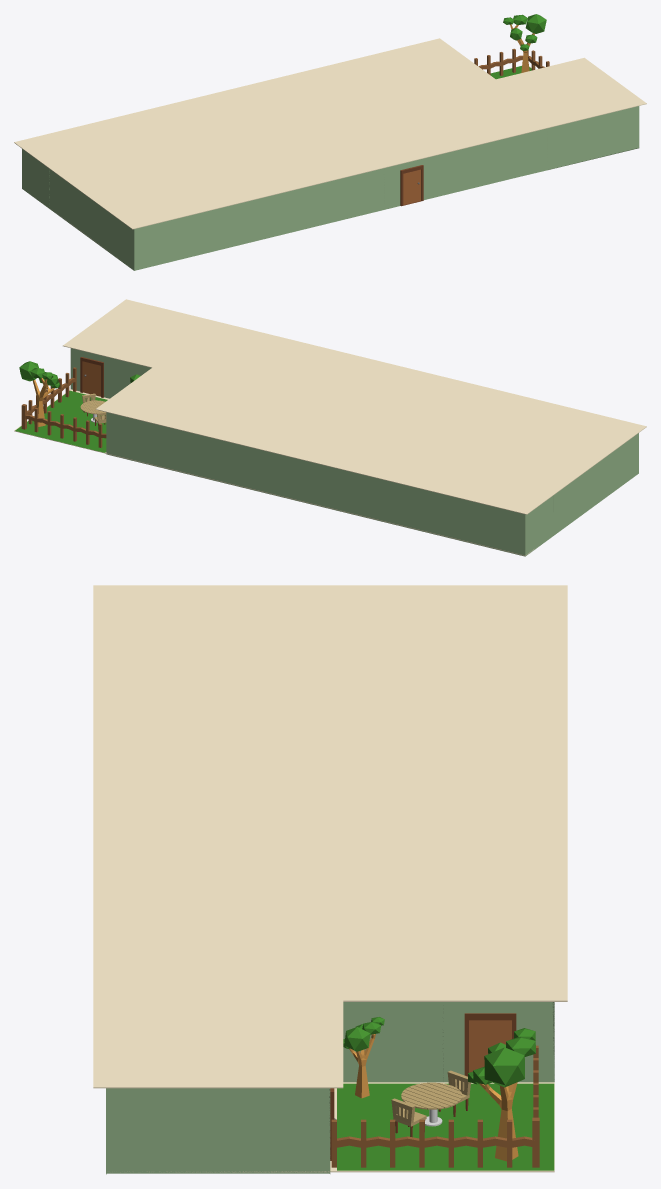
The model's file is MainCharHouse.fbx.
The picture shows the model from 3 angles, top to bottom: view 1: azimuth 30°, elevation 25°; view 2: azimuth 150°, elevation 25°; view 3: azimuth 270°, elevation 25°; orthographic projection. The views are drawn at different scales.
Visible parts, largest first — view 1: Plane.022, Plane.006, Icosphere.017, Cube.172, Cube.131; view 2: Plane.022, Plane.006, Plane.020, Icosphere.017, Cube.131, Plane.011, Cube.133, Cube.323; view 3: Plane.022, Plane.006, Plane.020, Cube.133, Icosphere.017, Cube.324, Icosphere.064, Cube.145, Plane.011, Cylinder.052.
Part boxes in pixels (x1,y1,x2,y2): Plane.022: (14,38,646,229); Plane.006: (22,106,639,270); Icosphere.017: (503,14,546,72); Cube.172: (403,169,421,204); Cube.131: (474,48,522,75); Plane.022: (63,299,646,514); Plane.006: (70,348,638,556); Plane.020: (15,390,107,452); Icosphere.017: (19,361,60,426); Cube.131: (25,408,106,447); Plane.011: (14,389,533,555); Cube.133: (27,367,76,424); Cube.323: (83,361,100,396); Plane.022: (93,585,567,1088); Plane.006: (106,1002,554,1174); Plane.020: (337,1083,554,1170); Cube.133: (331,1119,536,1167); Icosphere.017: (468,1028,535,1161); Cube.324: (469,1020,511,1072); Icosphere.064: (343,1017,384,1098); Cube.145: (401,1082,462,1109); Plane.011: (120,1082,554,1172); Cylinder.052: (391,1070,470,1137).
Size of the model in its own units: 29594 by 3426 by 11786.
